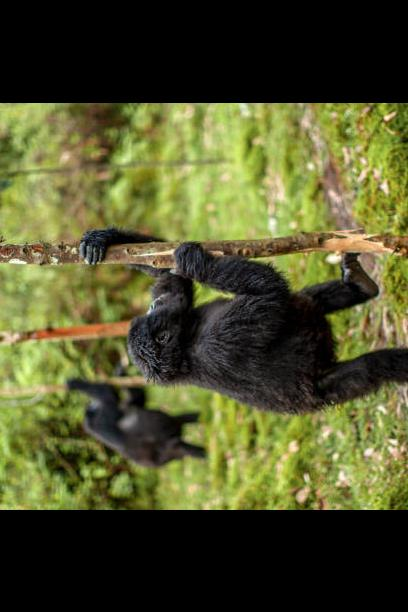goriile_montagne: (72, 208, 408, 415), (72, 373, 211, 472)
